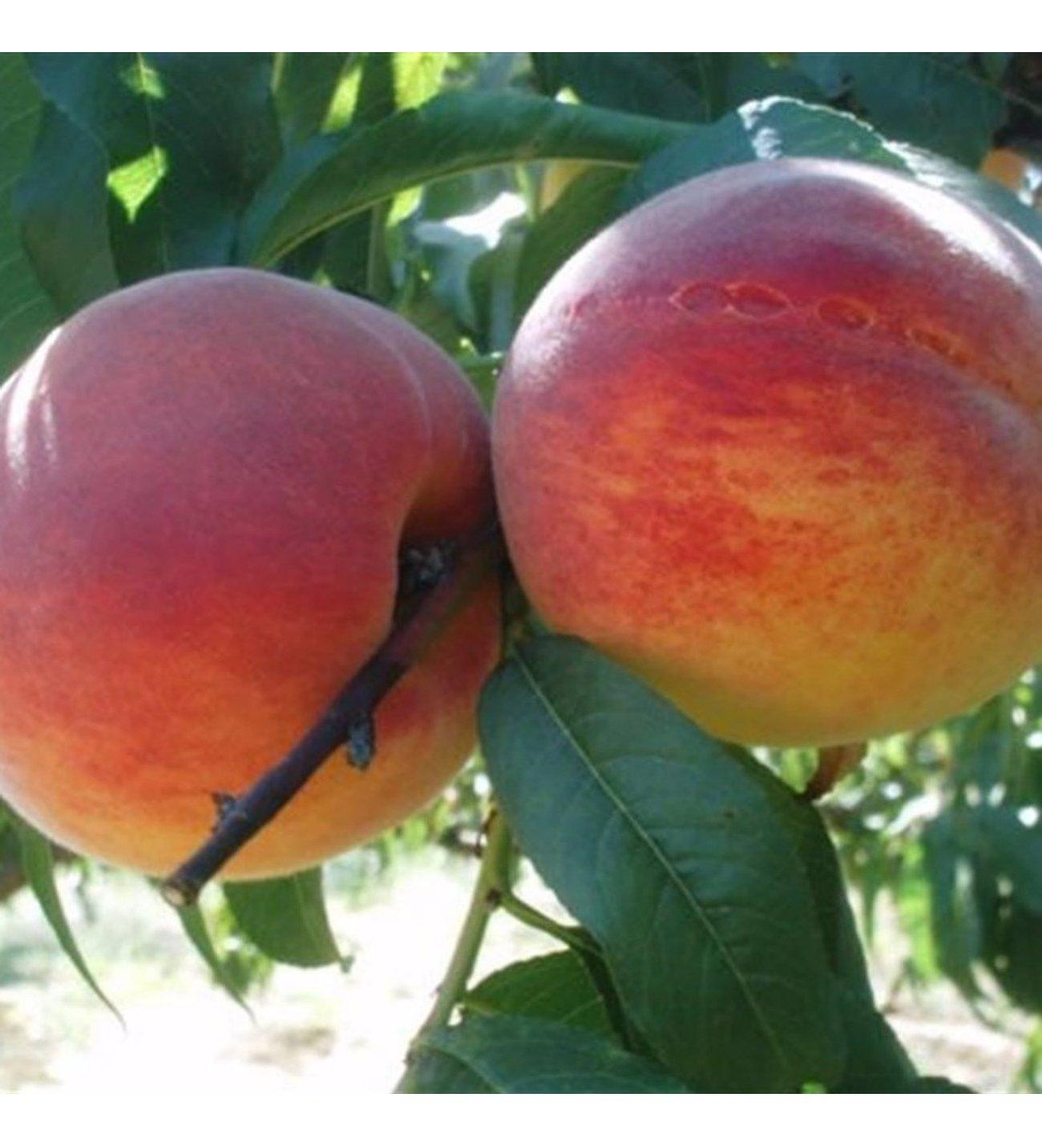Peach Ripe: (492, 158, 1041, 747), (0, 269, 503, 896)
